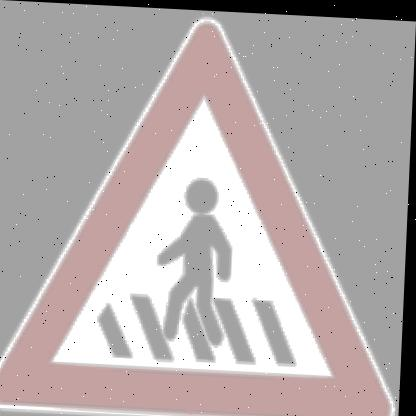Pedestrian Crossing: (9, 39, 388, 402)
